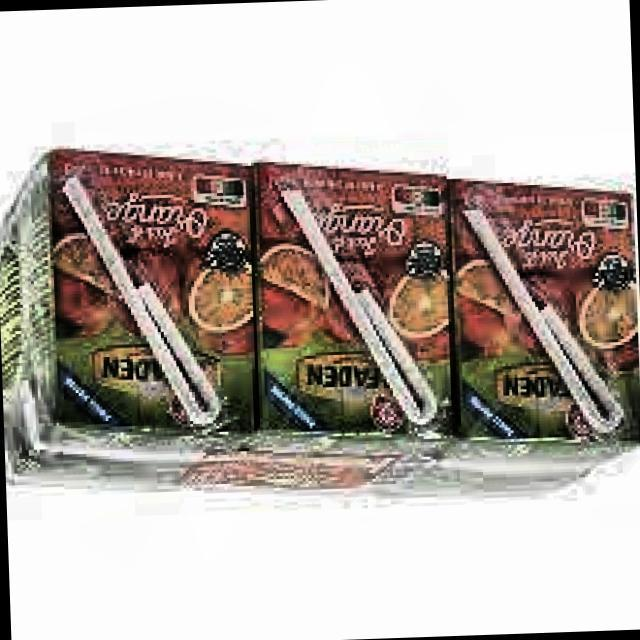cardboard: (0, 128, 640, 517)
